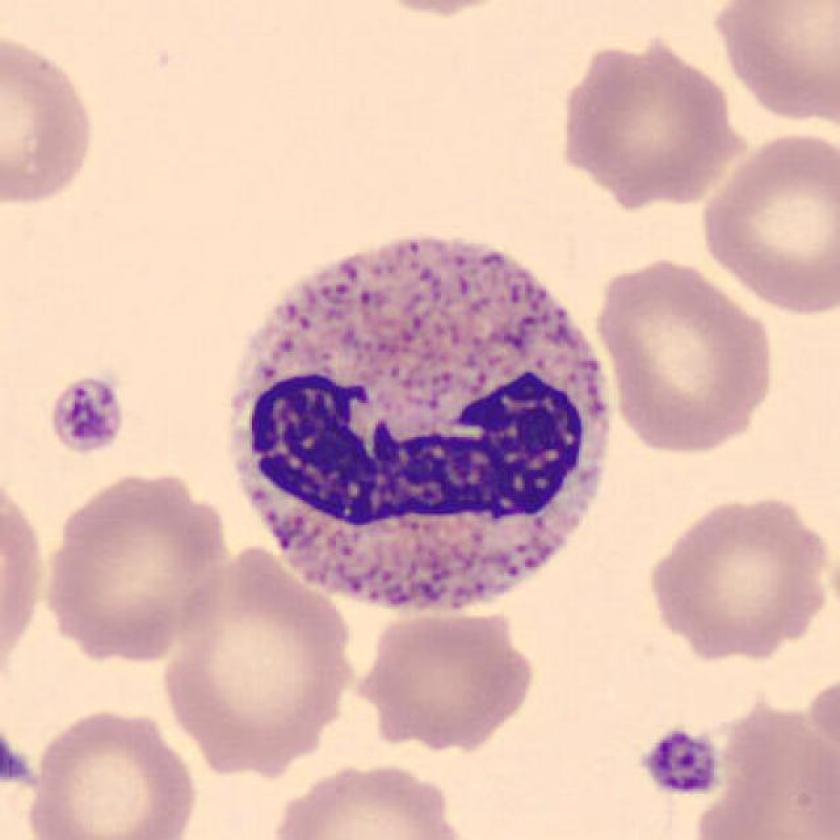neutrophil: (232, 243, 609, 612)
